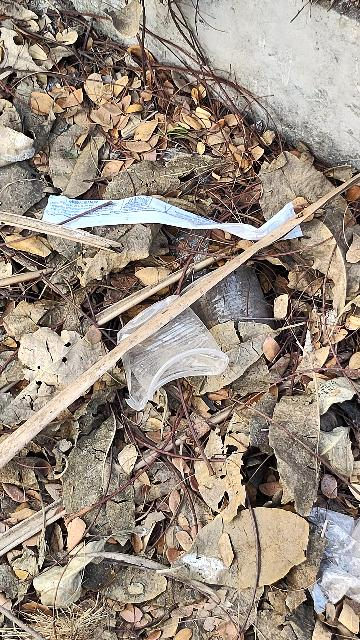hardplastic: (115, 308, 231, 404)
